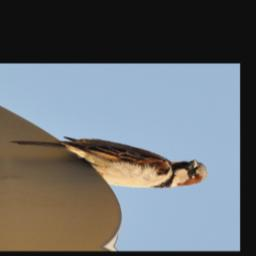Swallow: (9, 129, 210, 197)
